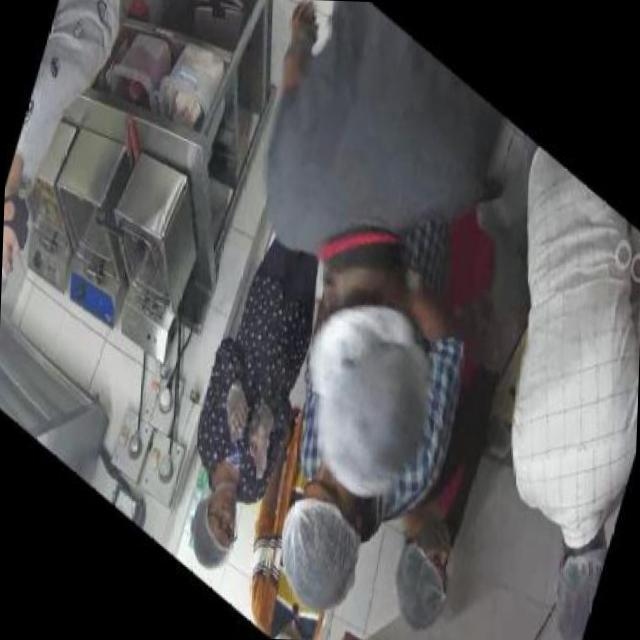hairnet: (320, 348, 428, 480), (281, 500, 358, 602), (551, 549, 604, 640), (396, 548, 450, 623), (184, 501, 224, 570)
